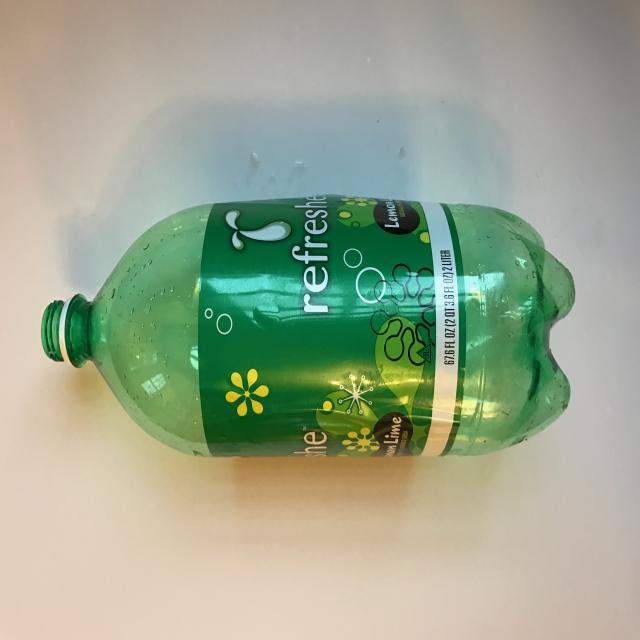plastic: (41, 193, 576, 460)
